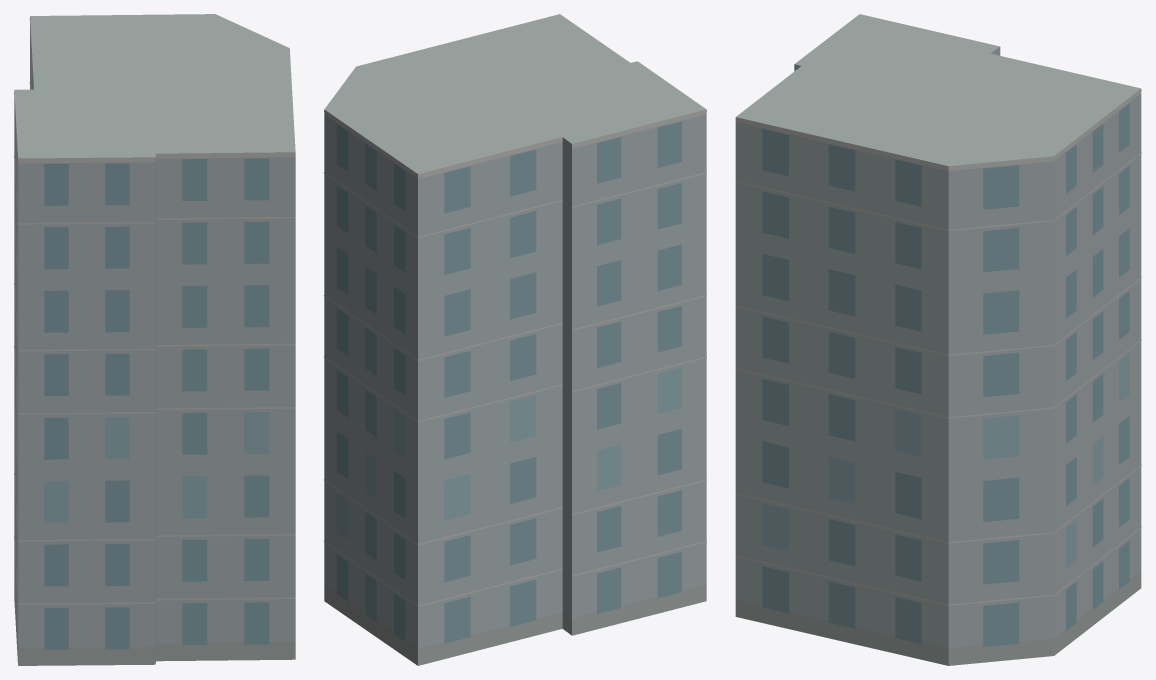
File: survey-upis-32555966.glb
3 views of the same model, side by side, from view 1: azimuth 30°, elevation 25°; view 2: azimuth 150°, elevation 25°; view 3: azimuth 270°, elevation 25° (orthographic). The views are drawn at different scales.
Parts seen in each view (by area): view 1: survey-upis-32555966.tmp; view 2: survey-upis-32555966.tmp; view 3: survey-upis-32555966.tmp.
Part boxes in pixels (x1=…): survey-upis-32555966.tmp: x1=14, y1=14, x2=295, y2=665; survey-upis-32555966.tmp: x1=324, y1=14, x2=706, y2=665; survey-upis-32555966.tmp: x1=735, y1=14, x2=1141, y2=665.
Bounding box in the file's own units: 16.29 × 24.9 × 18.35.
